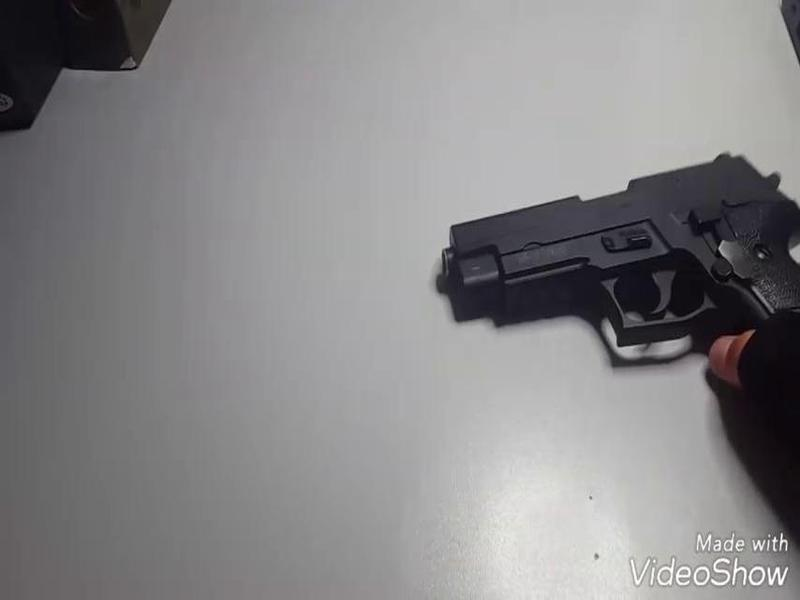Pistola: (427, 136, 800, 389)
